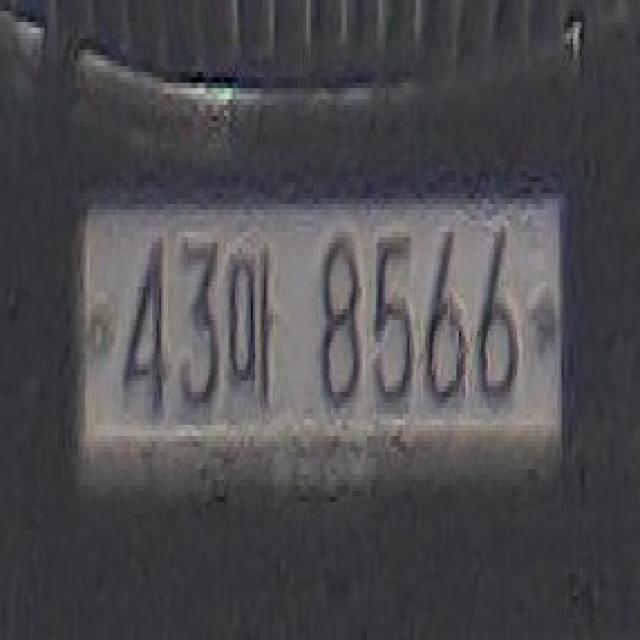plat: (70, 177, 571, 500)
